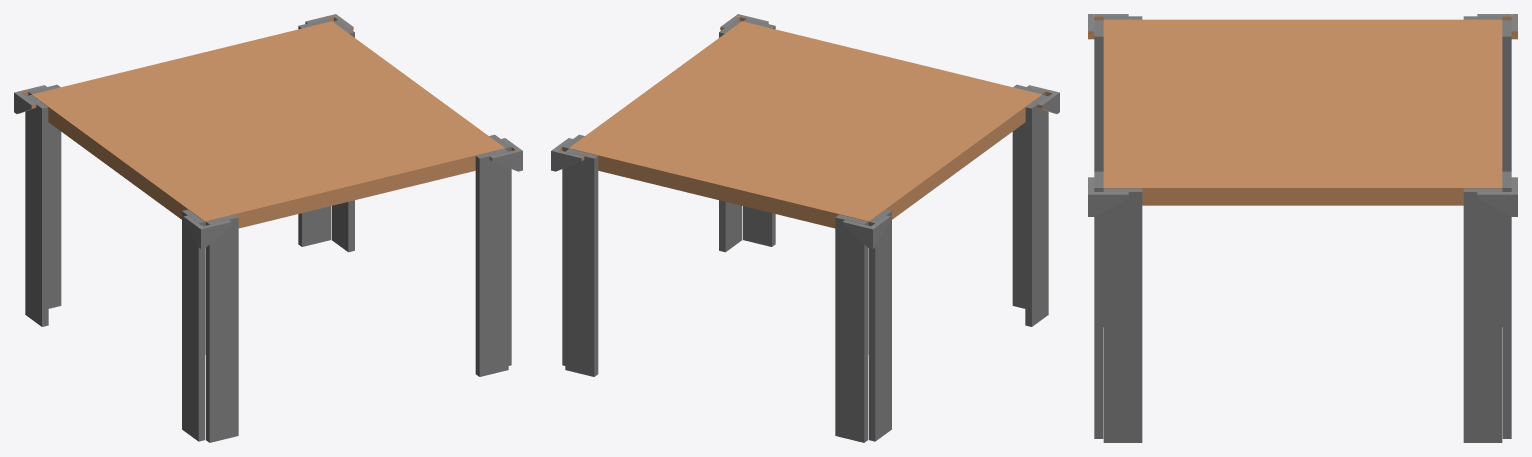
Rendered from shelf.glb.
3 renders of one model, left to right at view 1: azimuth 30°, elevation 25°; view 2: azimuth 150°, elevation 25°; view 3: azimuth 270°, elevation 25°, orthographic. The views are drawn at different scales.
Visible parts, largest first — view 1: Cube; view 2: Cube; view 3: Cube.
Boxes of the visible parts, x1,y1,x2,y2 form: Cube: (14,14,522,442); Cube: (551,14,1059,442); Cube: (1088,14,1517,442).
Bounding box in the file's own units: 4.51 × 2.93 × 4.54.
